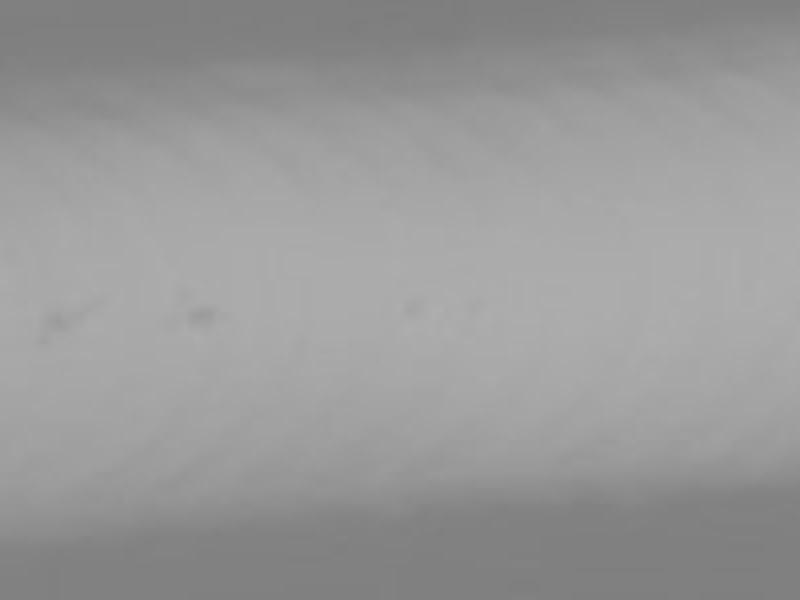defect: (182, 304, 217, 330), (399, 291, 427, 318), (39, 309, 62, 333)
